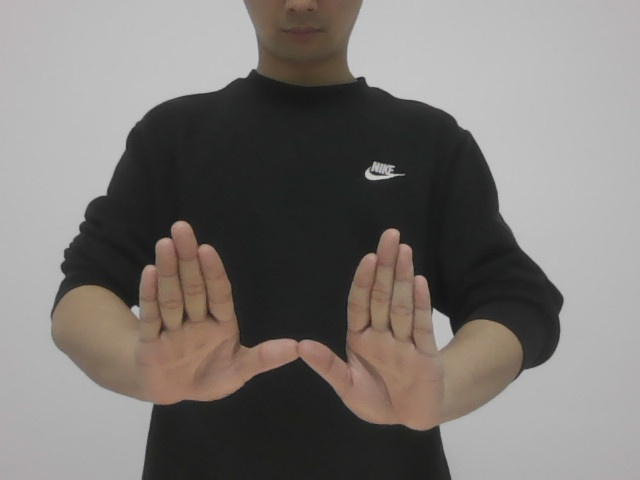door: (110, 210, 448, 430)
